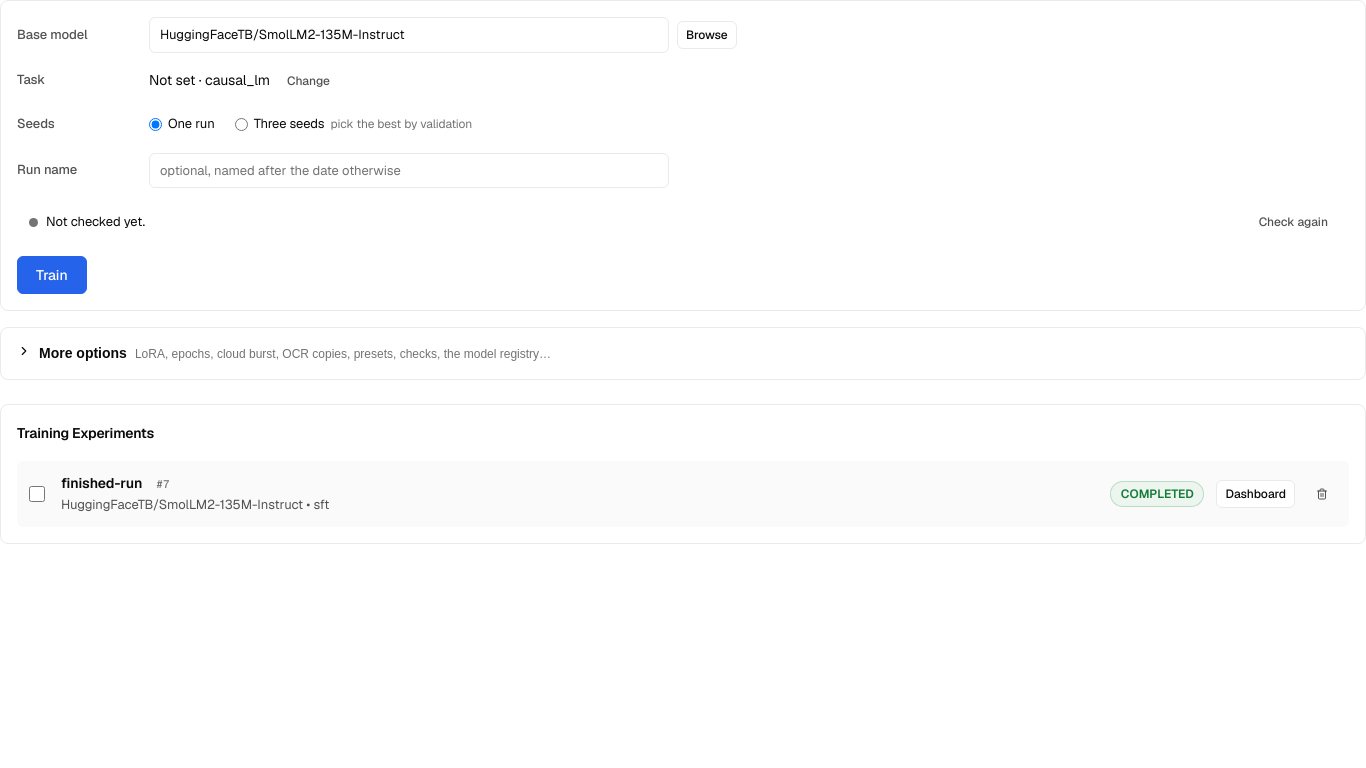
it: TrainingPanel dashboard of a finished run › loads the metric history from the checkpoints (no websocket for a completed run)
The image size is (1366, 768).
Click the button "Dashboard": x=1256, y=494 [1216, 480, 1295, 508]
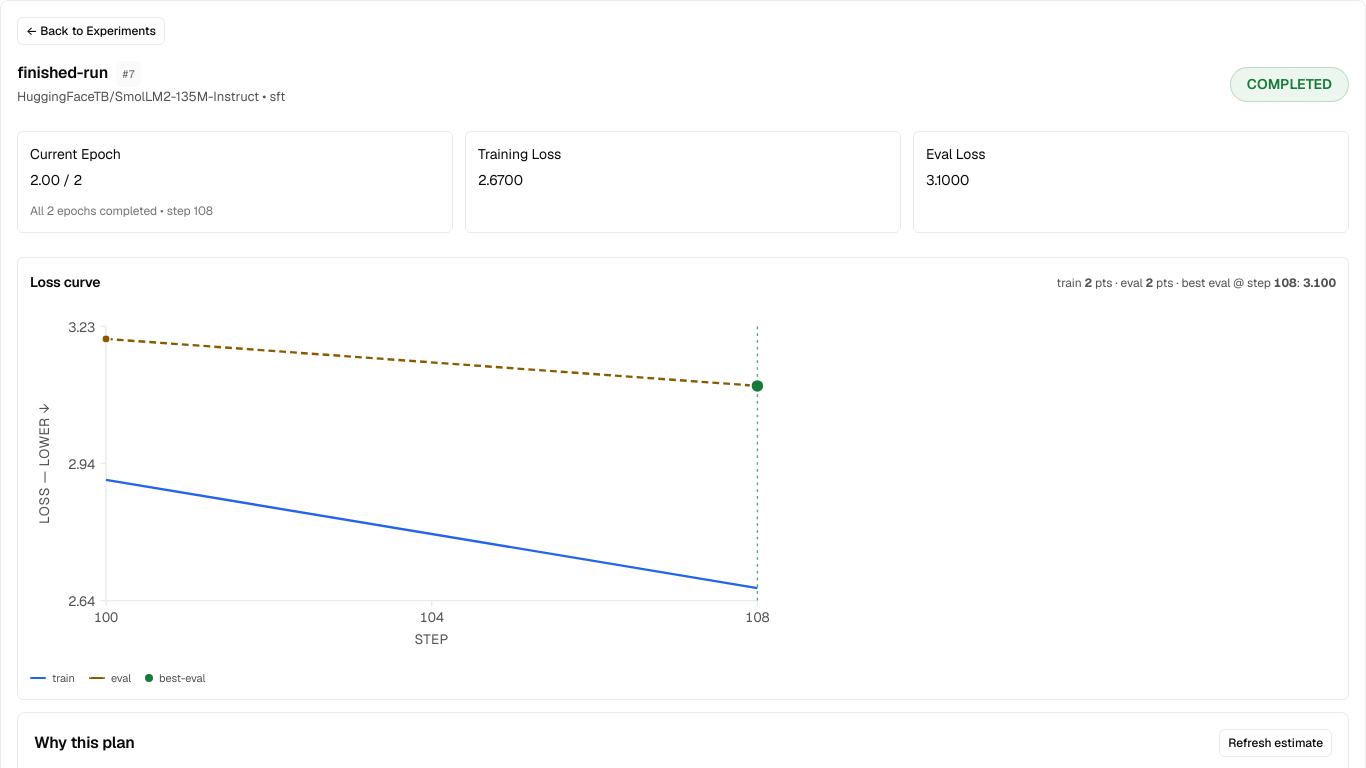
Check: the text "2.00 / 2" is shown, box [30, 171, 82, 189]
Check: the text "All 2 epochs completed • step 108" is shown, box [30, 202, 213, 218]
Check: the text "2.6700" is shown, box [478, 171, 523, 189]
